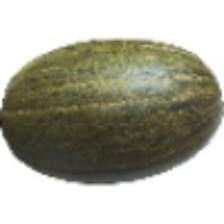honeydew: (35, 18, 181, 174)
